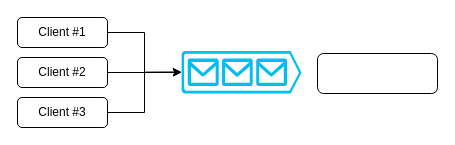
This 455x145 diagram has some shape labels left out. The centre of each missing label's shape, as x and y in pixels:
"Event Queue" belongs at (241,71).
"Redis Core Thread" belongs at (377,73).
